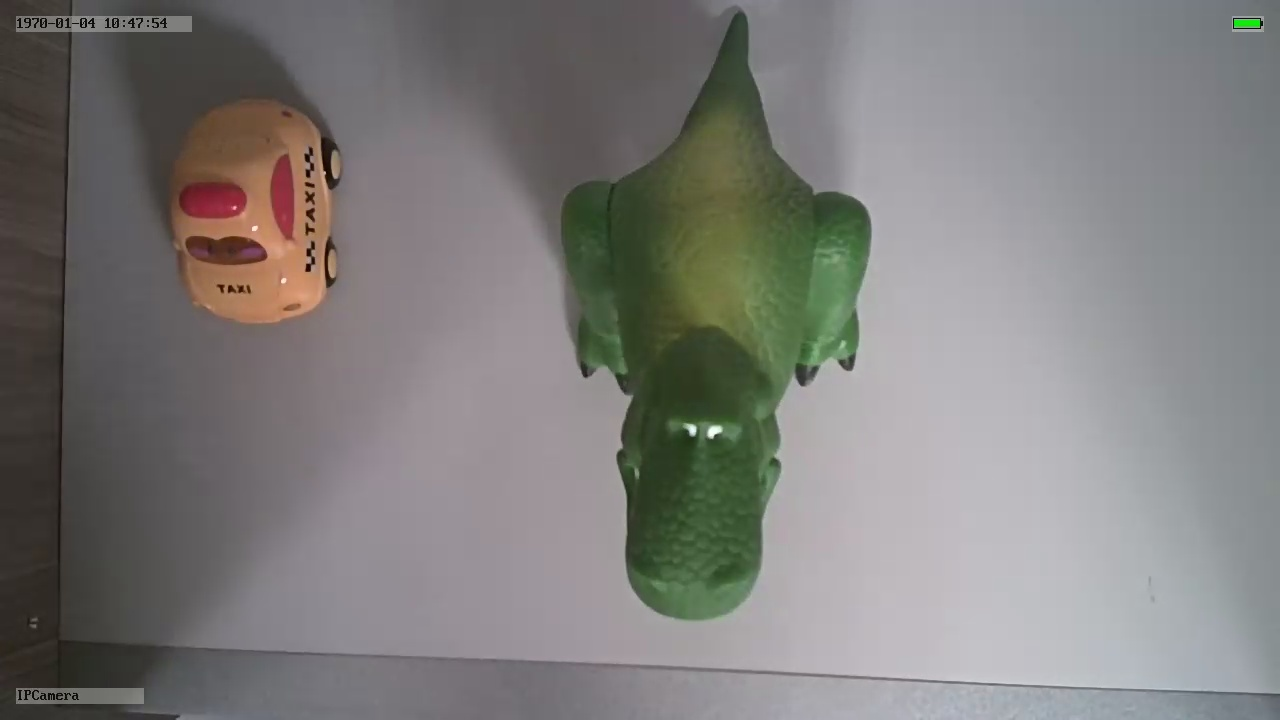car: (170, 95, 345, 326)
rex: (559, 76, 874, 627)
